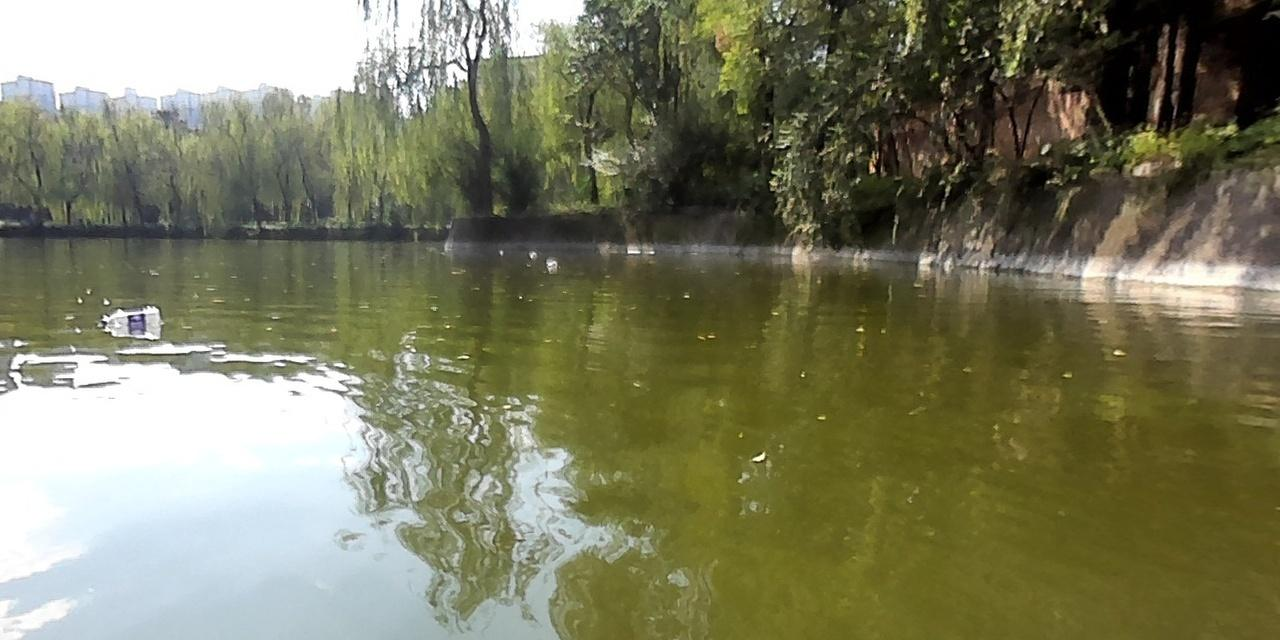bottle: (94, 302, 160, 337), (546, 257, 559, 270), (528, 250, 537, 259)
